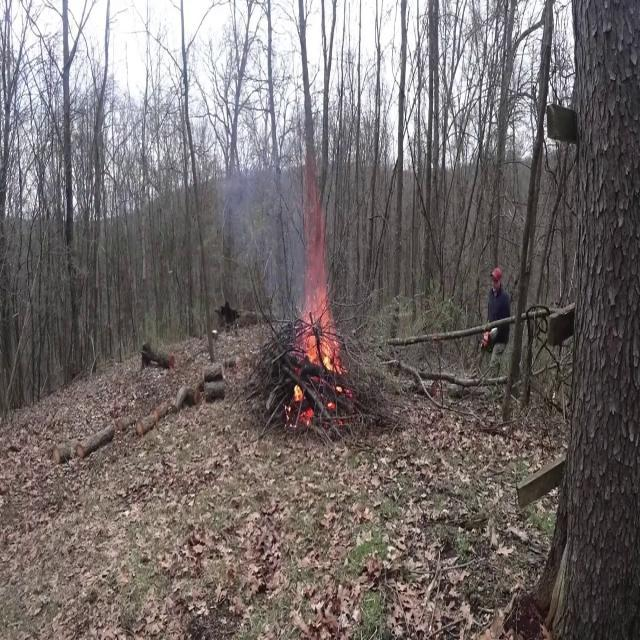Fire: (294, 270, 346, 400)
